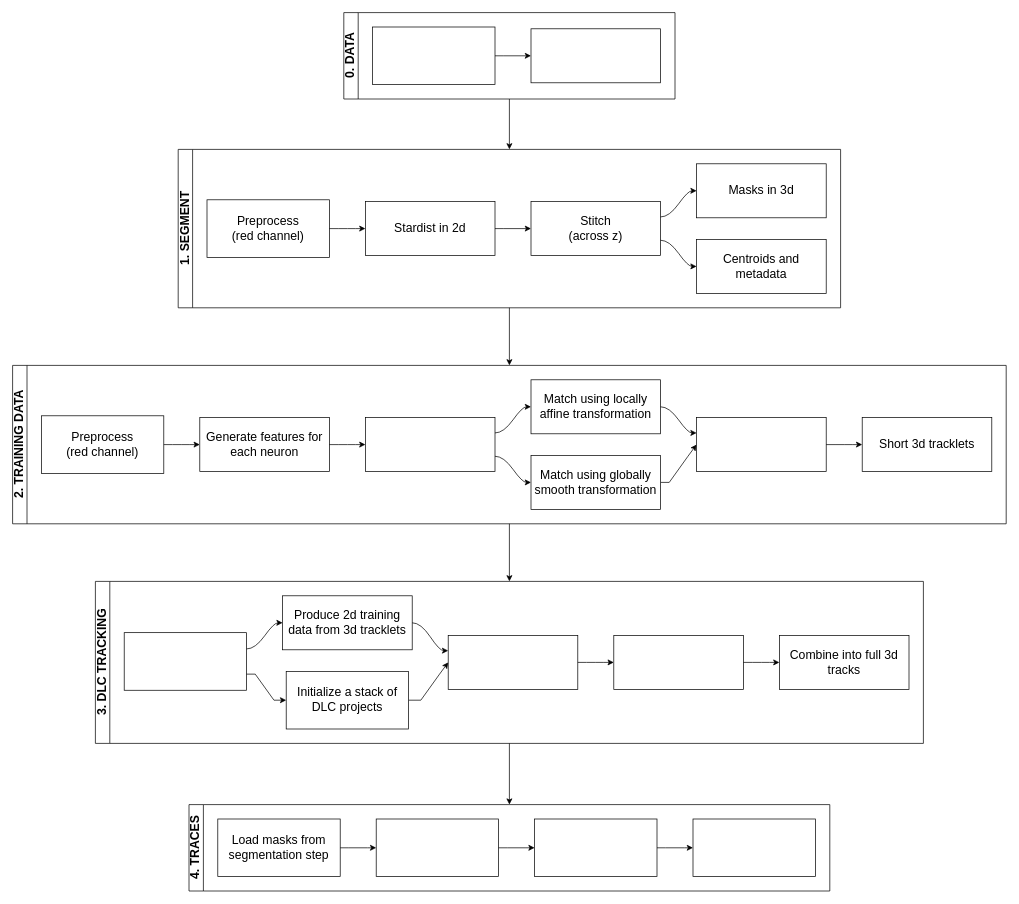
This 1019x904 diagram has some shape labels left out. Each missing label, with the centre of its shape:
".ome.tiff or .stk (microscope)" belongs at [433,55].
"Apply DLC networks (still 2d)" belongs at [678,662].
"bigtiff = .btf (one file)" belongs at [595,55].
"Combine all 3 methods" belongs at [761,444].
"Determine frames to use for training" belongs at [185,661].
"Finalize traces for GUI visualization" belongs at [753,847].
"Get traces for green channel" belongs at [595,847].
"Match tracks and masks" belongs at [437,847].
"Match using only features (only adjacent frames)" belongs at [430,444].
"Train all DLC networks" belongs at [512,662].
